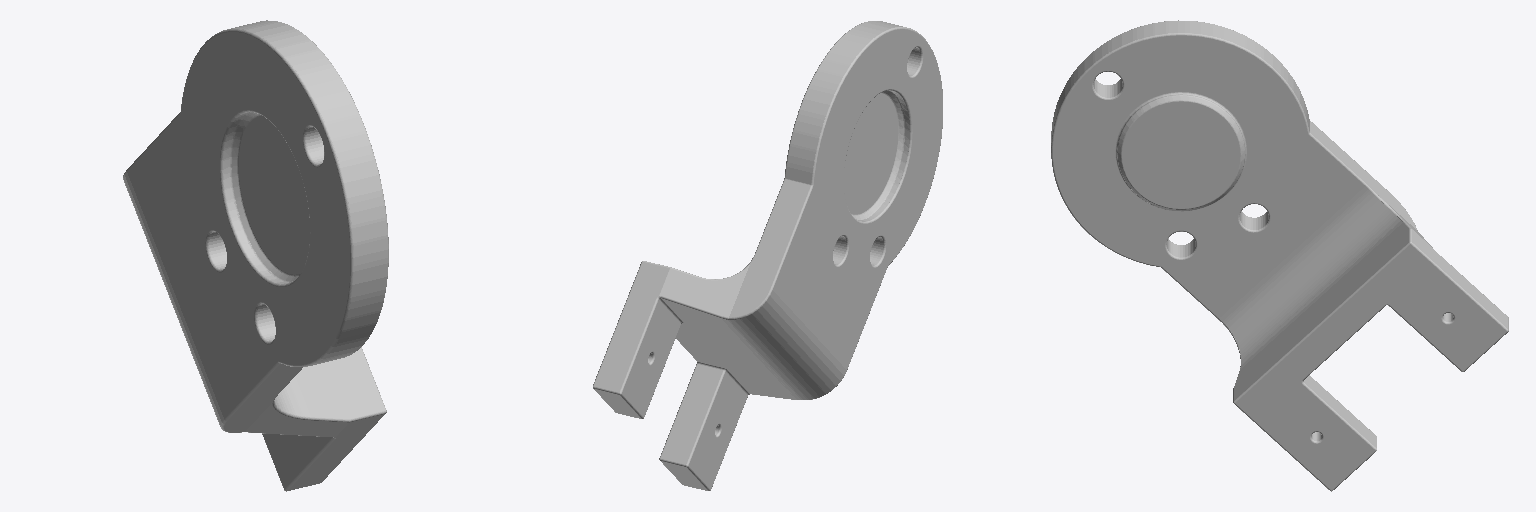
robot.urdf — panda:
<?xml version="1.0" ?>

<robot name="panda" xmlns:xacro="http://www.ros.org/wiki/xacro">
  
  <link name="panda_link0">
    <visual>
      <geometry>
        <mesh filename="package://collision/link0.obj"/>
      </geometry>
      <material name="panda_gray"/>
    </visual>
    <collision>
      <geometry>
        <mesh filename="package://collision/link0.obj"/>
      </geometry>
      <material name="panda_gray"/>
    </collision>
    <inertial>
      <origin xyz="0 0 0" rpy="0 0 0"/>
      <mass value="3.06"/>
      <inertia ixx="0.3" ixy="0.0" ixz="0.0" iyy="0.3" iyz="0.0" izz="0.3"/>
    </inertial>
  </link>
  
  <link name="panda_link1">
    <visual>
      <geometry>
        <mesh filename="package://visual/link1.obj"/>
      </geometry>
      <material name="panda_white"/>
    </visual>
    <collision>
      <geometry>
        <mesh filename="package://collision/link1.obj"/>
      </geometry>
      <material name="panda_white"/>
    </collision>
    <inertial>
      <origin xyz="0 0 0" rpy="0 0 0"/>
      <mass value="2.34"/>
      <inertia ixx="0.3" ixy="0.0" ixz="0.0" iyy="0.3" iyz="0.0" izz="0.3"/>
    </inertial>
  </link>
  
  <joint name="panda_joint1" type="revolute">
    <safety_controller k_position="100.0" k_velocity="40.0" soft_lower_limit="-2.8973" soft_upper_limit="2.8973"/>
    <origin rpy="0 0 0" xyz="0 0 0.333"/>
    <parent link="panda_link0"/>
    <child link="panda_link1"/>
    <axis xyz="0 0 1"/>
    <limit effort="87" lower="-2.8973" upper="2.8973" velocity="2.1750"/>
    <dynamics damping="0.5"/>
  </joint>
  
  <link name="panda_link2">
    <visual>
      <geometry>
        <mesh filename="package://visual/link2.obj"/>
      </geometry>
      <material name="panda_white"/>
    </visual>
    <collision>
      <geometry>
        <mesh filename="package://collision/link2.obj"/>
      </geometry>
      <material name="panda_white"/>
    </collision>
    <inertial>
      <origin xyz="0 0 0" rpy="0 0 0"/>
      <mass value="2.36"/>
      <inertia ixx="0.3" ixy="0.0" ixz="0.0" iyy="0.3" iyz="0.0" izz="0.3"/>
    </inertial>
  </link>
  
  <joint name="panda_joint2" type="revolute">
    <safety_controller k_position="100.0" k_velocity="40.0" soft_lower_limit="-1.7628" soft_upper_limit="1.7628"/>
    <origin rpy="-1.57079632679 0 0" xyz="0 0 0"/>
    <parent link="panda_link1"/>
    <child link="panda_link2"/>
    <axis xyz="0 0 1"/>
    <limit effort="87" lower="-1.7628" upper="1.7628" velocity="2.1750"/>
    <dynamics damping="0.5"/>
  </joint>
  
  <link name="panda_link3">
    <visual>
      <geometry>
        <mesh filename="package://visual/link3.obj"/>
      </geometry>
      <material name="panda_white"/>
    </visual>
    <collision>
      <geometry>
        <mesh filename="package://collision/link3.obj"/>
      </geometry>
      <material name="panda_white"/>
    </collision>
    <inertial>
      <origin xyz="0 0 0" rpy="0 0 0"/>
      <mass value="2.38"/>
      <inertia ixx="0.3" ixy="0.0" ixz="0.0" iyy="0.3" iyz="0.0" izz="0.3"/>
    </inertial>
  </link>
  
  <joint name="panda_joint3" type="revolute">
    <safety_controller k_position="100.0" k_velocity="40.0" soft_lower_limit="-2.8973" soft_upper_limit="2.8973"/>
    <origin rpy="1.57079632679 0 0" xyz="0 -0.316 0"/>
    <parent link="panda_link2"/>
    <child link="panda_link3"/>
    <axis xyz="0 0 1"/>
    <limit effort="87" lower="-2.8973" upper="2.8973" velocity="2.1750"/>
    <dynamics damping="0.5"/>
  </joint>
  
  <link name="panda_link4">
    <visual>
      <geometry>
        <mesh filename="package://visual/link4.obj"/>
      </geometry>
      <material name="panda_white"/>
    </visual>
    <collision>
      <geometry>
        <mesh filename="package://collision/link4.obj"/>
      </geometry>
      <material name="panda_white"/>
    </collision>
    <inertial>
      <origin xyz="0 0 0" rpy="0 0 0"/>
      <mass value="2.43"/>
      <inertia ixx="0.3" ixy="0.0" ixz="0.0" iyy="0.3" iyz="0.0" izz="0.3"/>
    </inertial>
  </link>
  
  <joint name="panda_joint4" type="revolute">
    <safety_controller k_position="100.0" k_velocity="40.0" soft_lower_limit="-3.0718" soft_upper_limit="-0.0698"/>
    <origin rpy="1.57079632679 0 0" xyz="0.0825 0 0"/>
    <parent link="panda_link3"/>
    <child link="panda_link4"/>
    <axis xyz="0 0 1"/>
    <limit effort="87" lower="-3.0718" upper="-0.0698" velocity="2.1750"/>
    <dynamics damping="0.5"/>
  </joint>
  
  <link name="panda_link5">
    <visual>
      <geometry>
        <mesh filename="package://visual/link5.obj"/>
      </geometry>
      <material name="panda_white"/>
    </visual>
    <collision>
      <geometry>
        <mesh filename="package://collision/link5.obj"/>
      </geometry>
      <material name="panda_white"/>
    </collision>
    <inertial>
      <origin xyz="0 0 0" rpy="0 0 0"/>
      <mass value="3.5"/>
      <inertia ixx="0.3" ixy="0.0" ixz="0.0" iyy="0.3" iyz="0.0" izz="0.3"/>
    </inertial>
  </link>
  
  <joint name="panda_joint5" type="revolute">
    <safety_controller k_position="100.0" k_velocity="40.0" soft_lower_limit="-2.8973" soft_upper_limit="2.8973"/>
    <origin rpy="-1.57079632679 0 0" xyz="-0.0825 0.384 0"/>
    <parent link="panda_link4"/>
    <child link="panda_link5"/>
    <axis xyz="0 0 1"/>
    <limit effort="12" lower="-2.8973" upper="2.8973" velocity="2.6100"/>
    <dynamics damping="0.5"/>
  </joint>
  
  <link name="panda_link6">
    <visual>
      <geometry>
        <mesh filename="package://visual/link6.obj"/>
      </geometry>
      <material name="panda_white"/>
    </visual>
    <collision>
      <geometry>
        <mesh filename="package://collision/link6.obj"/>
      </geometry>
      <material name="panda_white"/>
    </collision>tp
    <inertial>
      <origin xyz="0 0 0" rpy="0 0 0"/>
      <mass value="1.47"/>
      <inertia ixx="0.3" ixy="0.0" ixz="0.0" iyy="0.3" iyz="0.0" izz="0.3"/>
    </inertial>
  </link>
  
  <joint name="panda_joint6" type="revolute">
    <safety_controller k_position="100.0" k_velocity="40.0" soft_lower_limit="-0.0175" soft_upper_limit="3.7525"/>
    <origin rpy="1.57079632679 0 0" xyz="0 0 0"/>
    <parent link="panda_link5"/>
    <child link="panda_link6"/>
    <axis xyz="0 0 1"/>
    <limit effort="12" lower="-0.0175" upper="3.752" velocity="2.6100"/>
    <dynamics damping="0.5"/>
  </joint>
  
  <link name="panda_link7">
    <visual>
      <geometry>
        <mesh filename="package://collision/link7.obj"/>
      </geometry>
      <material name="panda_white"/>
    </visual>
    <collision>
      <geometry>
        <mesh filename="package://collision/link7.obj"/>
      </geometry>
      <material name="panda_white"/>
    </collision>
    <inertial>
      <origin xyz="0 0 0" rpy="0 0 0"/>
      <mass value="0.45"/>
      <inertia ixx="0.3" ixy="0.0" ixz="0.0" iyy="0.3" iyz="0.0" izz="0.3"/>
    </inertial>
  </link>
  
  <joint name="panda_joint7" type="revolute">
    <safety_controller k_position="100.0" k_velocity="40.0" soft_lower_limit="-2.8973" soft_upper_limit="2.8973"/>
    <origin rpy="1.57079632679 0 0" xyz="0.088 0 0"/>
    <parent link="panda_link6"/>
    <child link="panda_link7"/>
    <axis xyz="0 0 1"/>
    <limit effort="12" lower="-2.8973" upper="2.8973" velocity="2.6100"/>
    <dynamics damping="0.5"/>
  </joint>
  
  <joint name="panda_hand_joint" type="fixed">
    <parent link="panda_link7"/>
    <child link="panda_hand"/>
    <!-- <origin rpy="0 0 -0.785398163397" xyz="0 0 0.107"/> -->
    <origin rpy="0 0 -0.785398163397" xyz="0 0 0.113"/>
  </joint>
  
  <link name="panda_hand">
    <visual>
      <geometry>
        <mesh filename="package://visual/hand.obj"/>
      </geometry>
      <material name="panda_gray"/>
    </visual>
    <collision>
      <geometry>
        <mesh filename="package://collision/hand.obj"/>
      </geometry>
      <material name="panda_gray"/>
    </collision>
    <inertial>
      <origin xyz="0 0 0" rpy="0 0 0"/>
      <mass value="0.68"/>
      <inertia ixx="0.1" ixy="0.0" ixz="0.0" iyy="0.1" iyz="0.0" izz="0.1"/>
    </inertial>
  </link>
  
  <!-- camera -->

<joint name="panda_camera_bracket_joint" type="fixed">
    <parent link="panda_link7"/>
    <child link="panda_camera_bracket"/>
    <origin rpy="0 0 -0.785398163397" xyz="0 0 0.105"/>
  </joint>
  
  <link name="panda_camera_bracket">
    <visual>
      <geometry>
        <mesh filename="package://visual/bracket.obj"/>
      </geometry>
      <material name="panda_gray"/>
    </visual>
    <collision>
      <geometry>
        <mesh filename="package://collision/bracket.obj"/>
      </geometry>
      <material name="panda_gray"/>
    </collision>
    <inertial>
      <origin xyz="0 0 0" rpy="0 0 0"/>
      <mass value="0.0"/>
      <inertia ixx="0.0" ixy="0.0" ixz="0.0" iyy="0.0" iyz="0.0" izz="0.0"/>
    </inertial>
  </link>

  <joint name="panda_camera_joint" type="fixed">
    <parent link="panda_camera_bracket"/>
    <child link="panda_camera"/>
    <!-- <origin rpy="0 0 -1.5707963267948966" xyz="0.07 0 0.077"/> -->
    <origin rpy="0 0 -1.5707963267948966" xyz="0.069 0 0.01"/>
  </joint>
  
  <link name="panda_camera">
    <visual>
      <geometry>
        <mesh filename="package://visual/d435.obj"/>
      </geometry>
      <material name="panda_gray"/>
    </visual>
    <collision>
      <geometry>
        <mesh filename="package://collision/d435.obj"/>
      </geometry>
      <material name="panda_gray"/>
    </collision>
    <inertial>
      <origin xyz="0 0 0" rpy="0 0 0"/>
      <mass value="0.0"/>
      <inertia ixx="0.0" ixy="0.0" ixz="0.0" iyy="0.0" iyz="0.0" izz="0.0"/>
    </inertial>
  </link>

  <!--  -->

  <link name="panda_leftfinger">
    <visual>
      <geometry>
        <mesh filename="package://visual/finger.obj"/>
      </geometry>
      <material name="panda_gray"/>
    </visual>
    <collision>
      <geometry>
        <mesh filename="package://collision/finger.obj"/>
      </geometry>
      <material name="panda_gray"/>
    </collision>
    <inertial>
      <origin xyz="0 0 0" rpy="0 0 0"/>
      <mass value="0.01"/>
      <inertia ixx="0.1" ixy="0.0" ixz="0.0" iyy="0.1" iyz="0.0" izz="0.1"/>
    </inertial>
  </link>
  
  <link name="panda_rightfinger">
    <visual>
      <origin rpy="0 0 3.14159265359" xyz="0 0 0"/>
      <geometry>
        <mesh filename="package://visual/finger.obj"/>
      </geometry>
      <material name="panda_gray"/>
    </visual>
    <collision>
      <origin rpy="0 0 3.14159265359" xyz="0 0 0"/>
      <geometry>
        <mesh filename="package://collision/finger.obj"/>
      </geometry>
      <material name="panda_gray"/>
    </collision>
    <inertial>
      <origin xyz="0 0 0" rpy="0 0 0"/>
      <mass value="0.01"/>
      <inertia ixx="0.1" ixy="0.0" ixz="0.0" iyy="0.1" iyz="0.0" izz="0.1"/>
    </inertial>
  </link>
  
  <!-- <joint name="panda_finger_joint1" type="fixed">
    <parent link="panda_hand"/>
    <child link="panda_leftfinger"/>
    <origin rpy="0 0 0" xyz="0 0 0.0584"/>
    <axis xyz="0 1 0"/>
    <limit effort="20" lower="0.0" upper="0.04" velocity="0.2"/>
  </joint>
  
  <joint name="panda_finger_joint2" type="fixed">
    <parent link="panda_hand"/>
    <child link="panda_rightfinger"/>
    <origin rpy="0 0 0" xyz="0 0 0.0584"/>
    <axis xyz="0 -1 0"/>
    <limit effort="20" lower="0.0" upper="0.04" velocity="0.2"/>
    <mimic joint="panda_finger_joint1"/>
  </joint> -->
  
  <joint name="panda_finger_joint1" type="prismatic">
    <parent link="panda_hand"/>
    <child link="panda_leftfinger"/>
    <origin rpy="0 0 0" xyz="0 0 0.0584"/>
    <axis xyz="0 1 0"/>
    <limit effort="20" lower="0.0" upper="0.04" velocity="0.2"/>
  </joint>
  
  <joint name="panda_finger_joint2" type="prismatic">
    <parent link="panda_hand"/>
    <child link="panda_rightfinger"/>
    <origin rpy="0 0 0" xyz="0 0 0.0584"/>
    <axis xyz="0 -1 0"/>
    <limit effort="20" lower="0.0" upper="0.04" velocity="0.2"/>
    <mimic joint="panda_finger_joint1"/>
  </joint>
  
  <material name="panda_white">
    <color rgba="1. 1. 1. 1."/>
  </material>
  <material name="panda_gray">
    <color rgba=".8 .8 .8 1."/>
  </material>
</robot>

--- Facts derived from the render (not from the file) ---
The picture shows the robot from 3 angles, left to right: view 1: azimuth 30°, elevation 25°; view 2: azimuth 150°, elevation 25°; view 3: azimuth 270°, elevation 25°; orthographic projection.
Robot: panda — 13 links, 12 joints (7 revolute, 2 prismatic, 3 fixed); root link panda_link0; default pose: joints at zero except 1 at the middle of their limits (panda_joint4 = -1.57).
Visible links, largest first — view 1: panda_camera_bracket; view 2: panda_camera_bracket; view 3: panda_camera_bracket.
Boxes of the visible links, <box> form: panda_camera_bracket: <box>123,20,388,491</box>; panda_camera_bracket: <box>593,21,942,490</box>; panda_camera_bracket: <box>1051,20,1508,491</box>.
Size in the robot's own frame: 0.033 by 0.1108 by 0.1108 metres.
Meshes: 12 distinct files referenced, 1 mesh visuals loaded (1 OBJ); not drawn: 12 (reference not matched to a file when rendering).